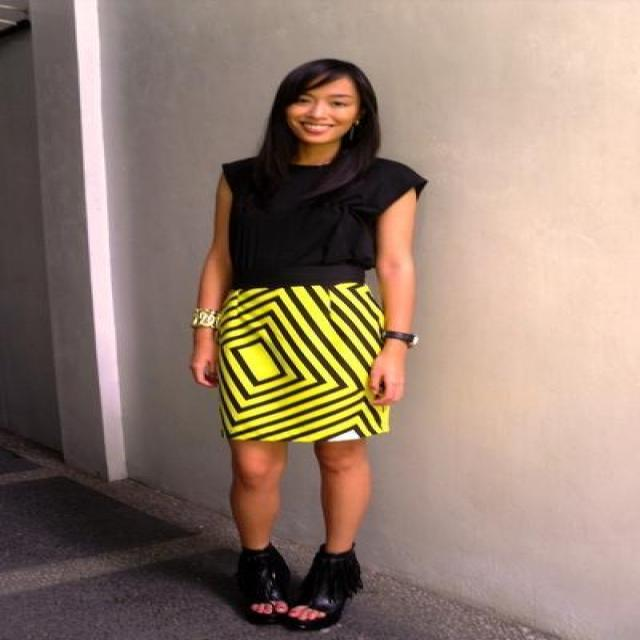shirt: (222, 152, 426, 294)
shoe: (251, 543, 362, 631)
skirt: (200, 283, 390, 457)
